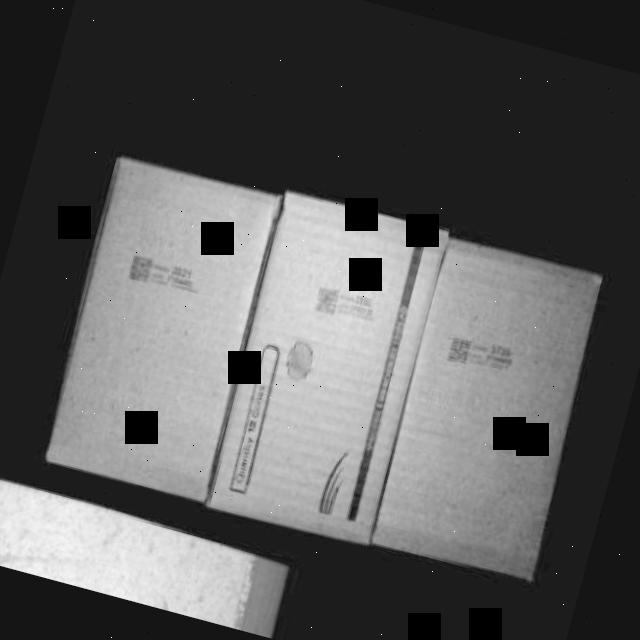box: (206, 189, 449, 546), (40, 159, 286, 504), (368, 238, 609, 581)
